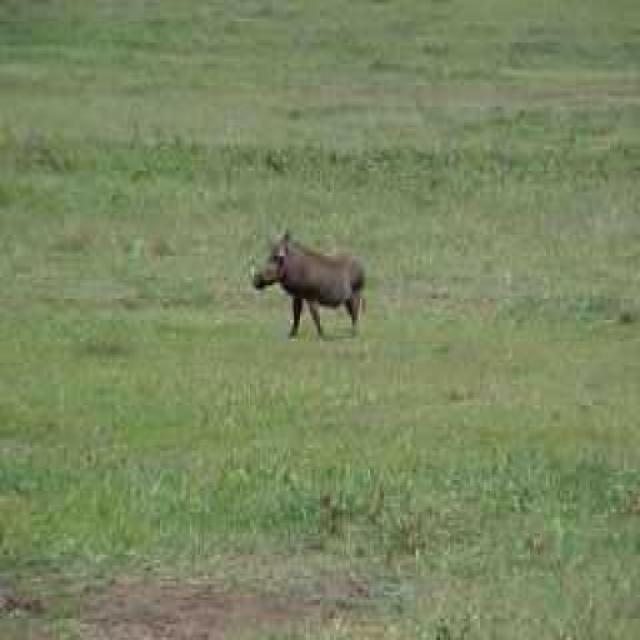pig: (246, 217, 391, 347)
